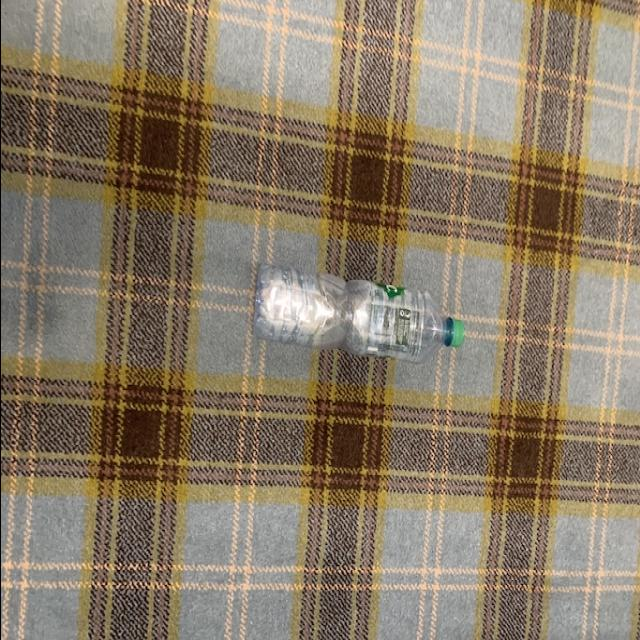PET: (248, 266, 462, 366)
